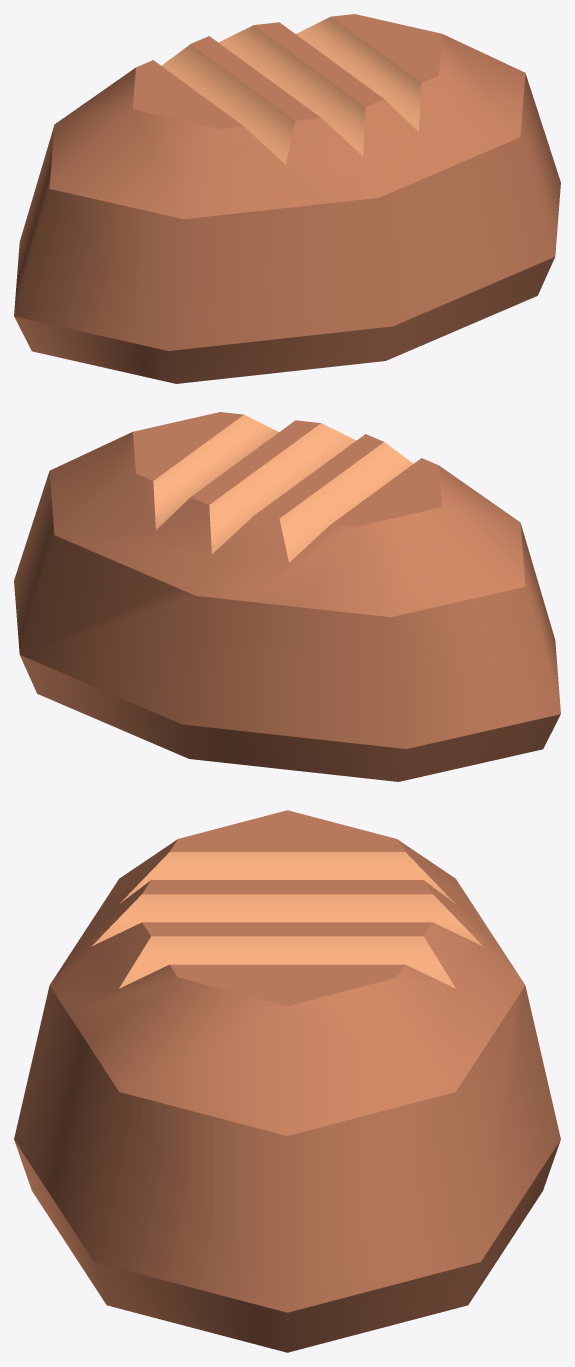
The model's file is Loaf Round.glb.
3 renders of one model, top to bottom at view 1: azimuth 30°, elevation 25°; view 2: azimuth 150°, elevation 25°; view 3: azimuth 270°, elevation 25°, orthographic. The views are drawn at different scales.
Visible parts, largest first — view 1: loafRound; view 2: loafRound; view 3: loafRound.
Boxes of the visible parts, x1,y1,x2,y2 form: loafRound: (14, 14, 560, 383); loafRound: (14, 412, 560, 781); loafRound: (14, 810, 560, 1352).
Size of the model in its own units: 0.7717 by 0.2932 by 0.5145.
